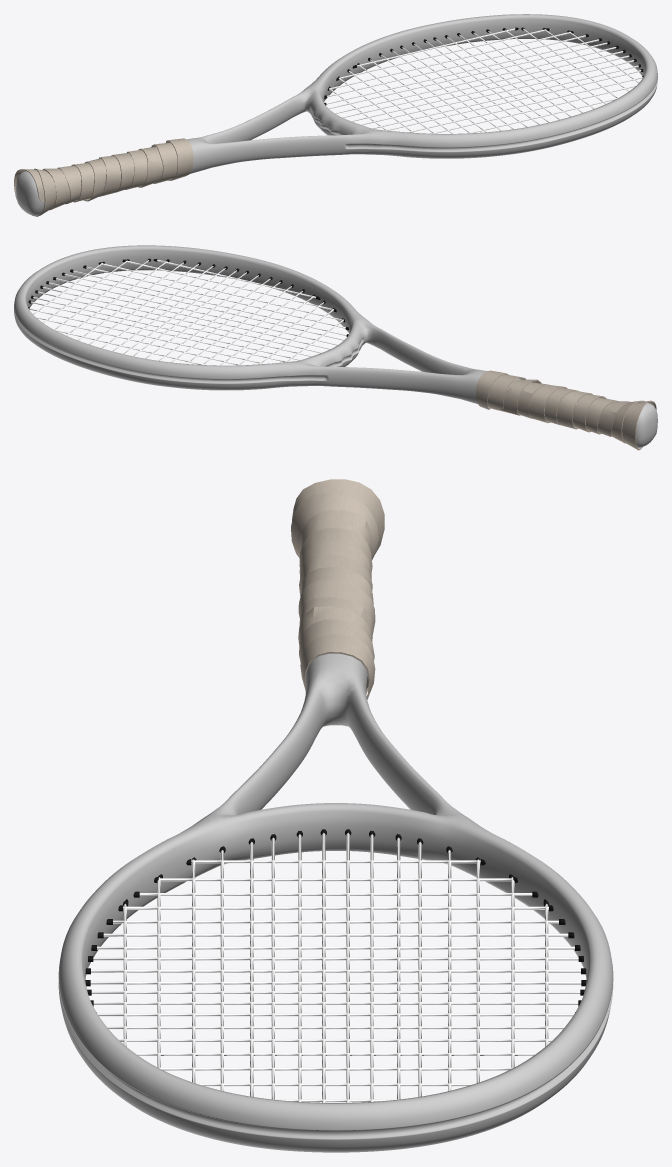
The picture shows the model from 3 angles, top to bottom: view 1: azimuth 30°, elevation 25°; view 2: azimuth 150°, elevation 25°; view 3: azimuth 270°, elevation 25°; orthographic projection. The views are drawn at different scales.
Parts seen in each view (by area): view 1: Raketka, Setka, Rychka, Cylinder; view 2: Raketka, Setka, Rychka, Cylinder; view 3: Raketka, Setka, Rychka, Cylinder.
Part boxes in pixels (x1,y1,x2,y2): Raketka: (16,14,657,215); Setka: (326,28,642,133); Rychka: (14,138,193,216); Cylinder: (324,27,643,105); Raketka: (14,245,657,447); Setka: (29,259,346,365); Rychka: (476,370,656,450); Cylinder: (28,258,348,336); Raketka: (58,653,613,1152); Setka: (90,833,581,1102); Rychka: (291,479,384,699); Cylinder: (85,829,586,1012).
Size of the model in its own units: 9.72 by 0.6712 by 3.78.
